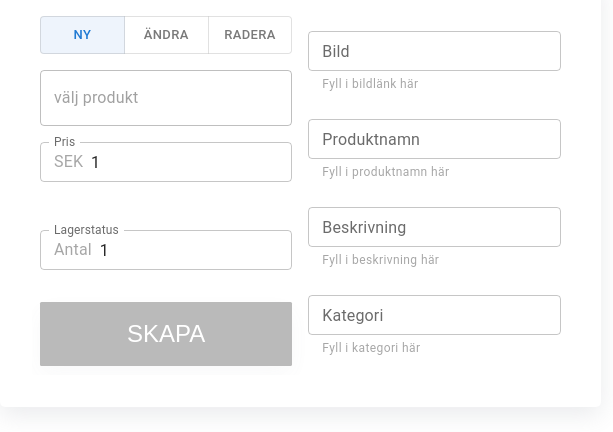
Test: AdminCms Component › should show informative message if product description input is invalid
Type "sk" into the field labelled "Beskrivning" at {"x": 434, "y": 227}, box [308,207,561,247]
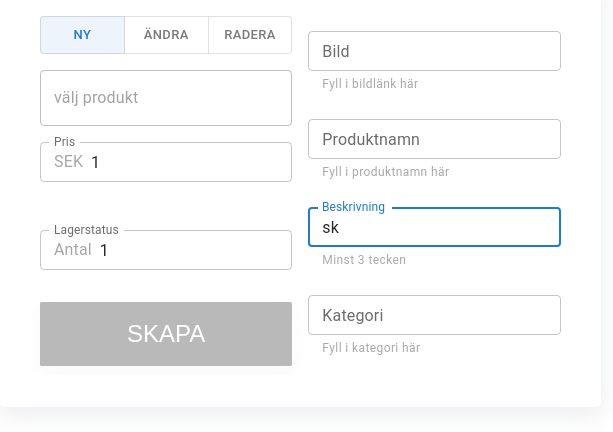
Now the text "Minst 3 tecken" is shown, box [322,253,406,267]
